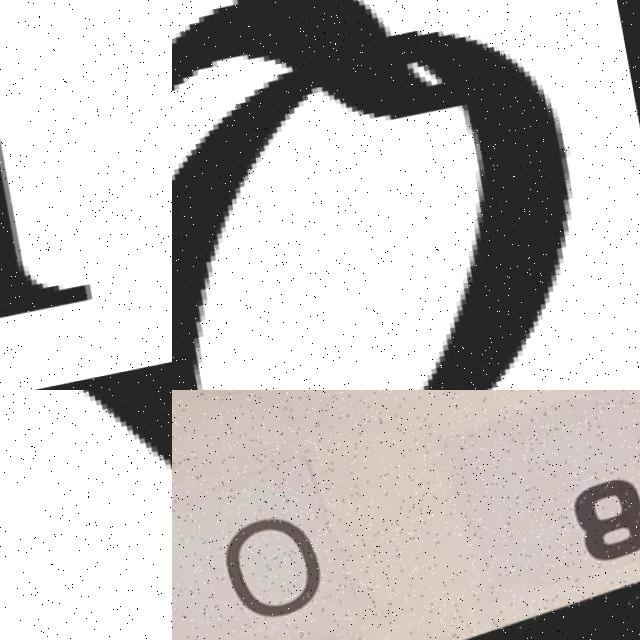0: (199, 494, 340, 640)
8: (553, 473, 640, 582)
J: (0, 0, 172, 350)
K: (0, 390, 172, 640)
Q: (172, 0, 629, 390)
